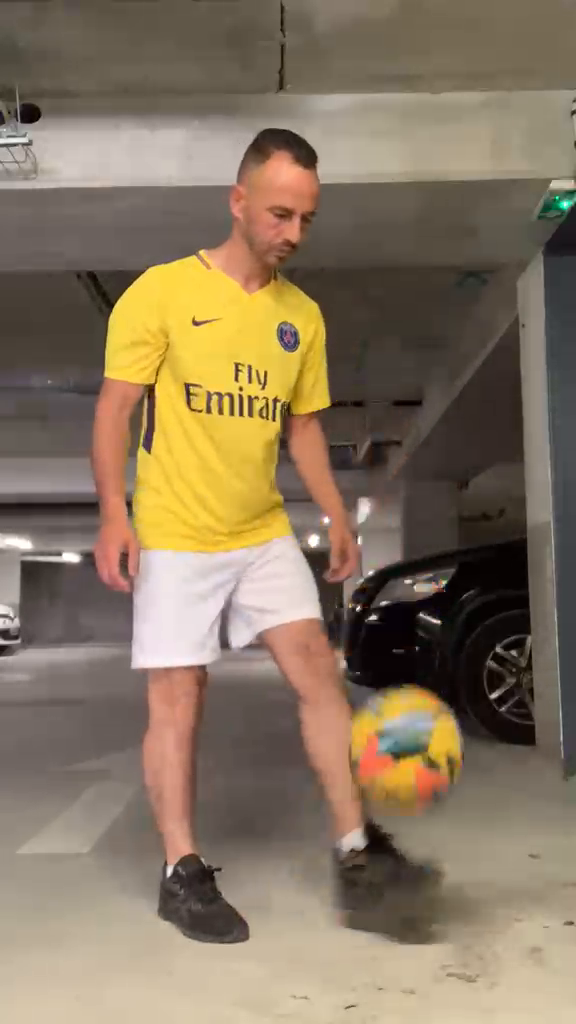ball: (409, 713, 480, 784)
